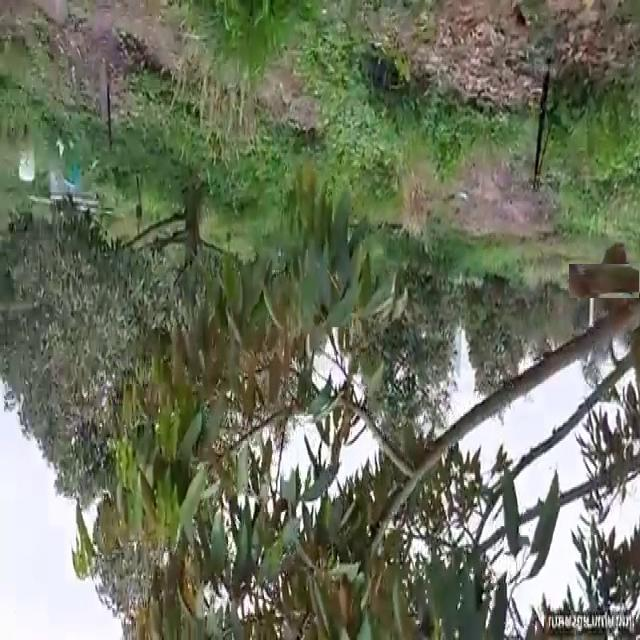durian: (583, 250, 640, 313)
